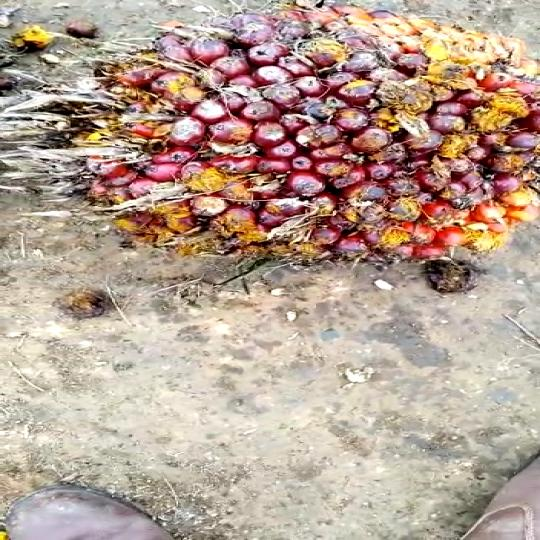masak: (22, 13, 540, 287)
